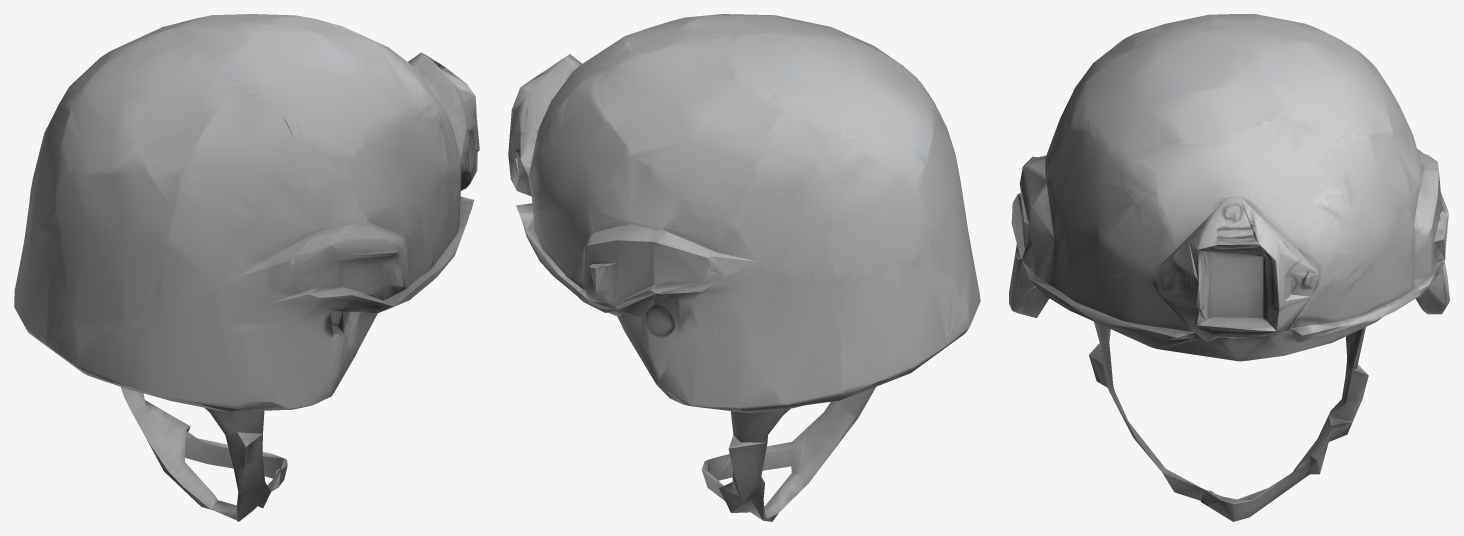
Rendered from farda_capacete_militar.glb.
The picture shows the model from 3 angles, left to right: view 1: azimuth 30°, elevation 25°; view 2: azimuth 150°, elevation 25°; view 3: azimuth 270°, elevation 25°; orthographic projection.
Parts seen in each view (by area): view 1: tripo_node_e974381a-6055-4f55-afe3-c4f29984fd53; view 2: tripo_node_e974381a-6055-4f55-afe3-c4f29984fd53; view 3: tripo_node_e974381a-6055-4f55-afe3-c4f29984fd53.
Boxes of the visible parts, left/top/right/bottom form: tripo_node_e974381a-6055-4f55-afe3-c4f29984fd53: left=14, top=14, right=479, bottom=521; tripo_node_e974381a-6055-4f55-afe3-c4f29984fd53: left=508, top=14, right=980, bottom=521; tripo_node_e974381a-6055-4f55-afe3-c4f29984fd53: left=1009, top=14, right=1449, bottom=521.
Size of the model in its own units: 0.9421 by 0.9986 by 0.8419.
Materials: 1 (1 with a texture image).
